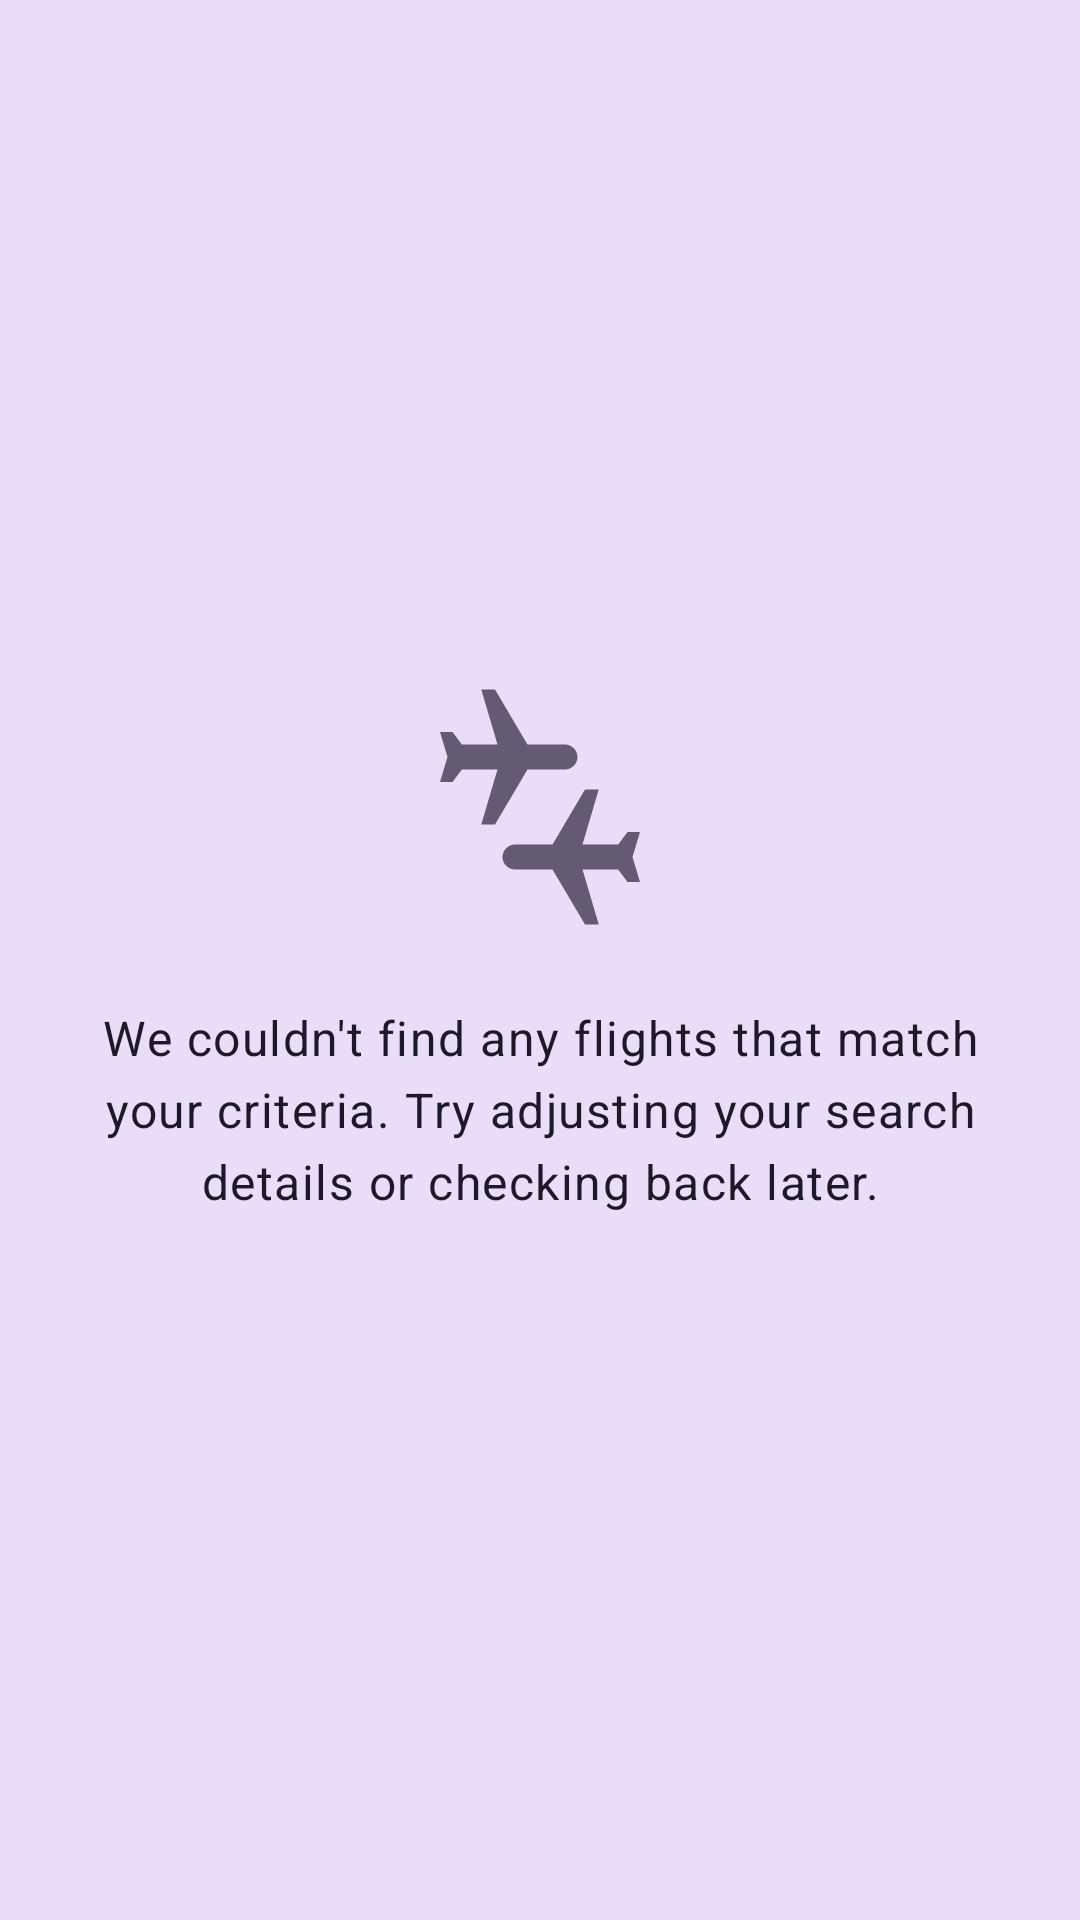

Icons on this 1080×1920 Android screen, each with the point to tap as (x=x, y=y):
connecting airports: (x=540, y=807)
